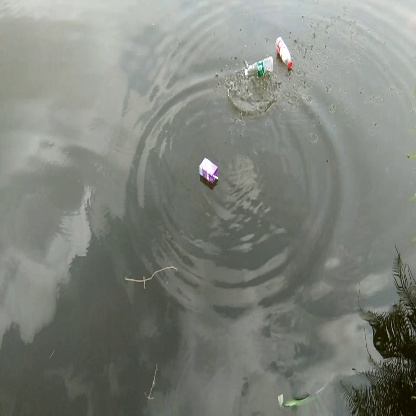bottle: (274, 35, 300, 70), (244, 56, 276, 81)
milk-box: (196, 156, 221, 183)
